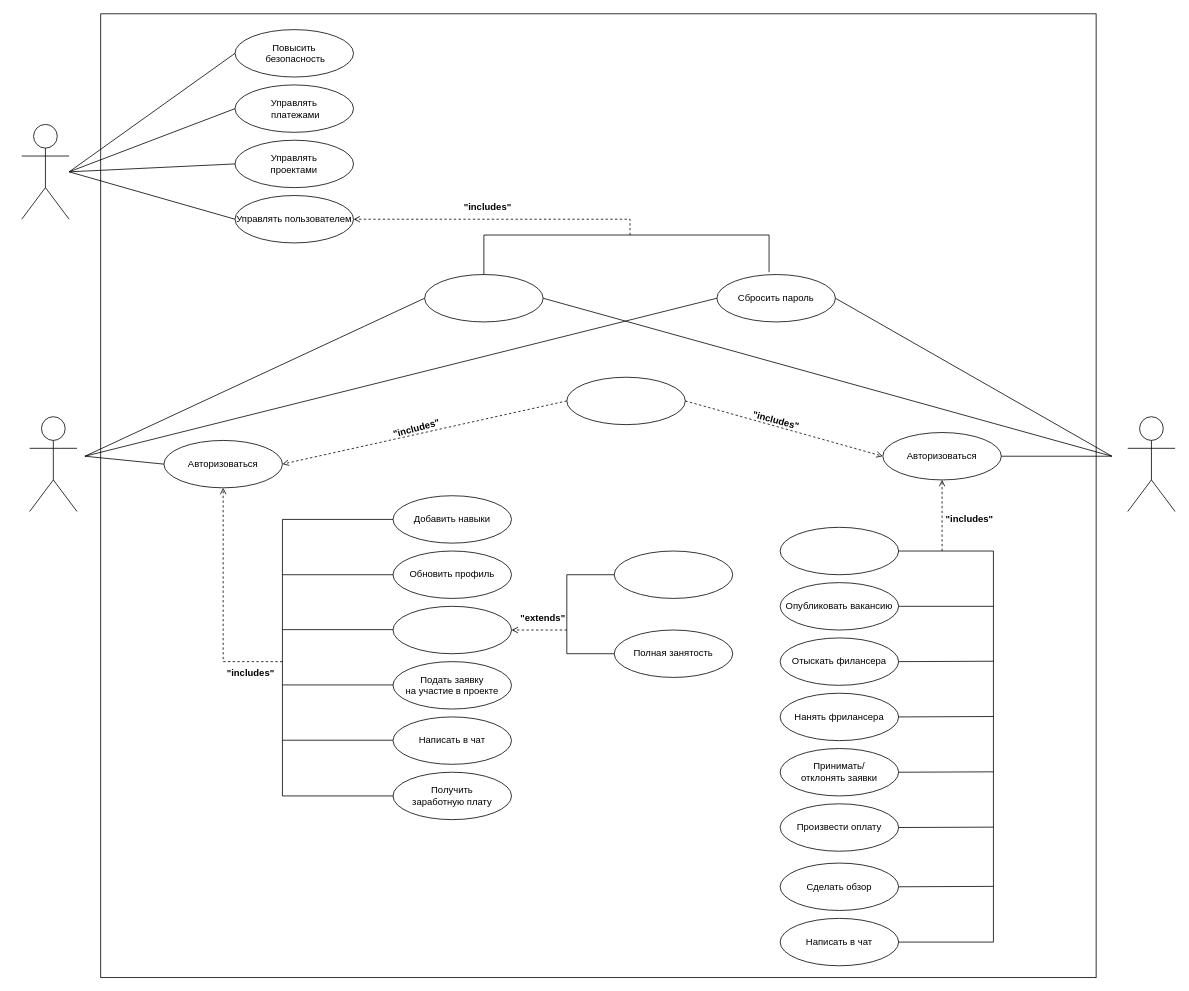
The diagram is 1189 pixels wide and 991 high, and some of its shapes have lost their labels. Here are the shapes that lost their labels. From the top down, the box of each, then its label:
(21, 124, 69, 219): Администатор
(424, 274, 543, 322): Зарегистрироваться
(566, 376, 685, 425): Проверить логин и пароль
(29, 416, 77, 512): Пользователь / Фрилансер
(1127, 416, 1175, 512): Клиент
(779, 527, 899, 575): Создать проект
(613, 550, 733, 598): Частичная занятость
(392, 606, 512, 654): Искать работу
